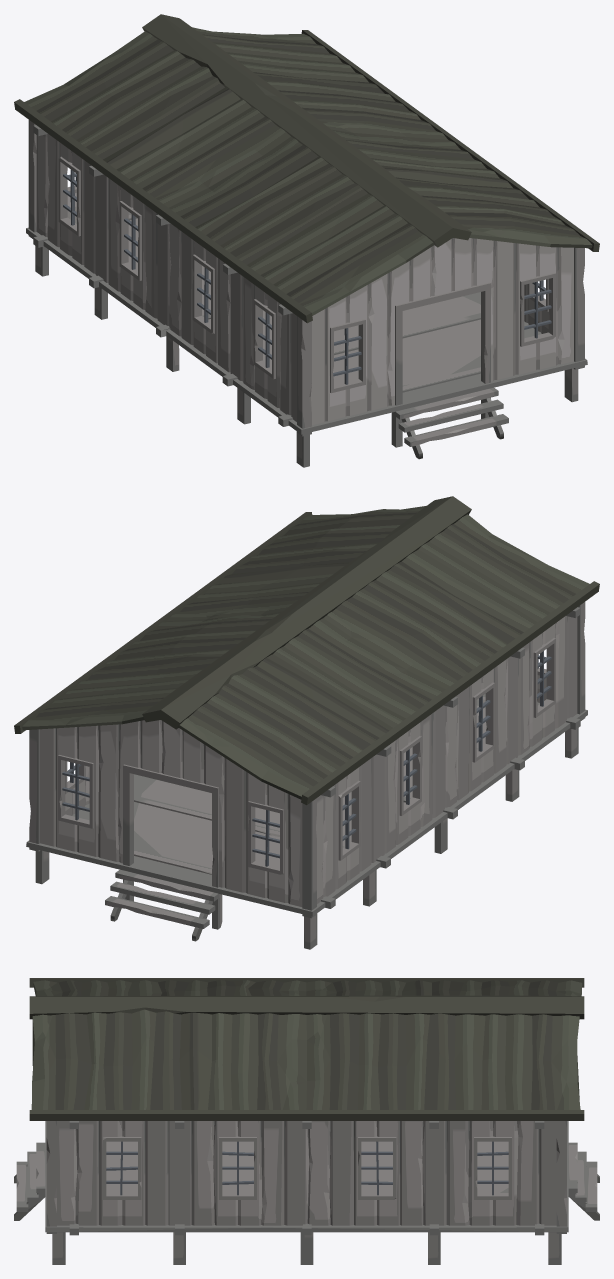
File: SM_Bld_Barracks_01.glb
3 views of the same model, one above another, from view 1: azimuth 30°, elevation 25°; view 2: azimuth 150°, elevation 25°; view 3: azimuth 270°, elevation 25° (orthographic). The views are drawn at different scales.
Visible parts, largest first — view 1: SM_Bld_Barracks_01; view 2: SM_Bld_Barracks_01; view 3: SM_Bld_Barracks_01.
Part boxes in pixels (x1,y1,x2,y2): SM_Bld_Barracks_01: (14,14,599,467); SM_Bld_Barracks_01: (14,496,599,949); SM_Bld_Barracks_01: (14,978,599,1264).
Bounding box in the file's own units: 7.43 × 5.14 × 13.36.
Materials: 1 (1 with a texture image).
